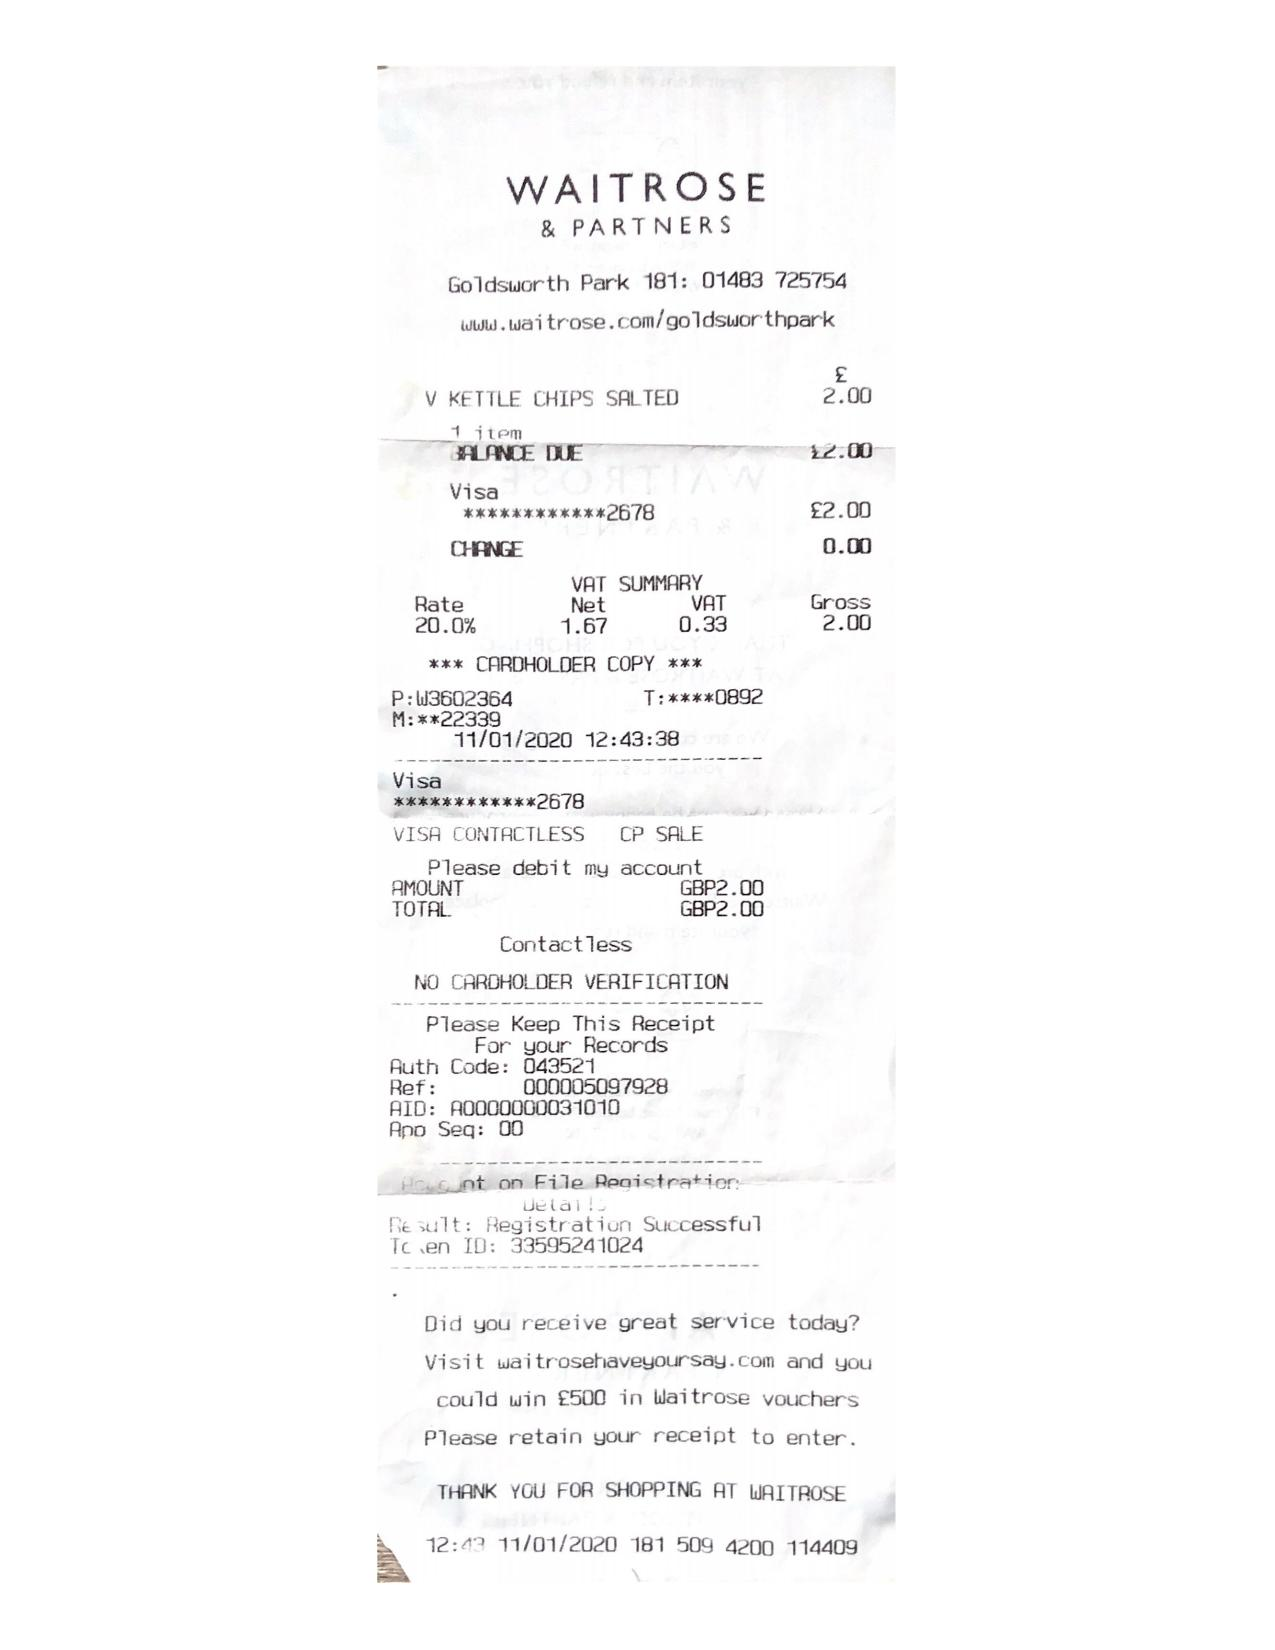Amount: (812, 443, 871, 458)
Date: (454, 729, 571, 747)
company_name: (506, 171, 763, 236)
